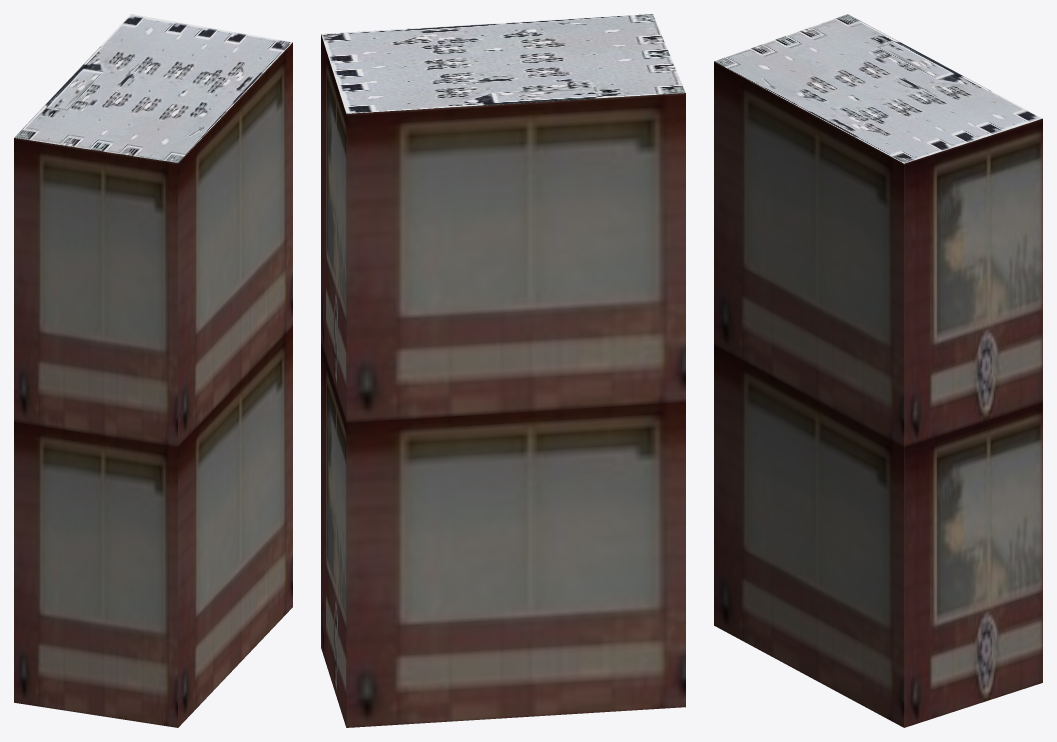
The model's file is ResTex__14.fbx.
3 renders of one model, left to right at view 1: azimuth 30°, elevation 25°; view 2: azimuth 150°, elevation 25°; view 3: azimuth 270°, elevation 25°, orthographic. The views are drawn at different scales.
Parts seen in each view (by area): view 1: CityEngineMaterial_13_m, CityEngineMaterial_m; view 2: CityEngineMaterial_13_m, CityEngineMaterial_m; view 3: CityEngineMaterial_13_m, CityEngineMaterial_m.
Boxes of the visible parts, box(x1,y1,x2,y2) form: CityEngineMaterial_13_m: box(14, 42, 292, 727); CityEngineMaterial_m: box(14, 14, 292, 162); CityEngineMaterial_13_m: box(321, 34, 685, 727); CityEngineMaterial_m: box(321, 14, 685, 113); CityEngineMaterial_13_m: box(714, 61, 1042, 727); CityEngineMaterial_m: box(714, 14, 1042, 163).
Size of the model in its own units: 3.41 by 6 by 3.17.
2 materials, 2 textured.
